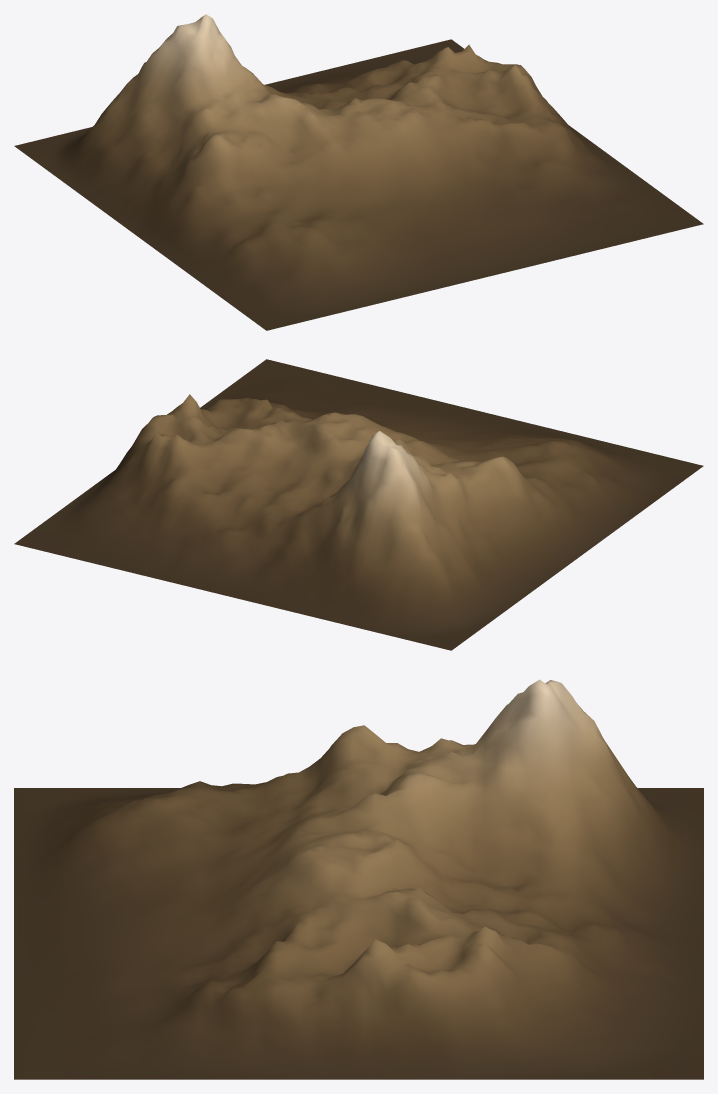
The model's file is Mountain_2D.fbx.
3 renders of one model, top to bottom at view 1: azimuth 30°, elevation 25°; view 2: azimuth 150°, elevation 25°; view 3: azimuth 270°, elevation 25°, orthographic. The views are drawn at different scales.
Parts seen in each view (by area): view 1: Mountain_2D; view 2: Mountain_2D; view 3: Mountain_2D.
Part boxes in pixels (<box>): Mountain_2D: <box>14,14,703,330</box>; Mountain_2D: <box>14,359,703,650</box>; Mountain_2D: <box>14,679,703,1079</box>.
Size of the model in its own units: 20000 by 6280 by 20000.
